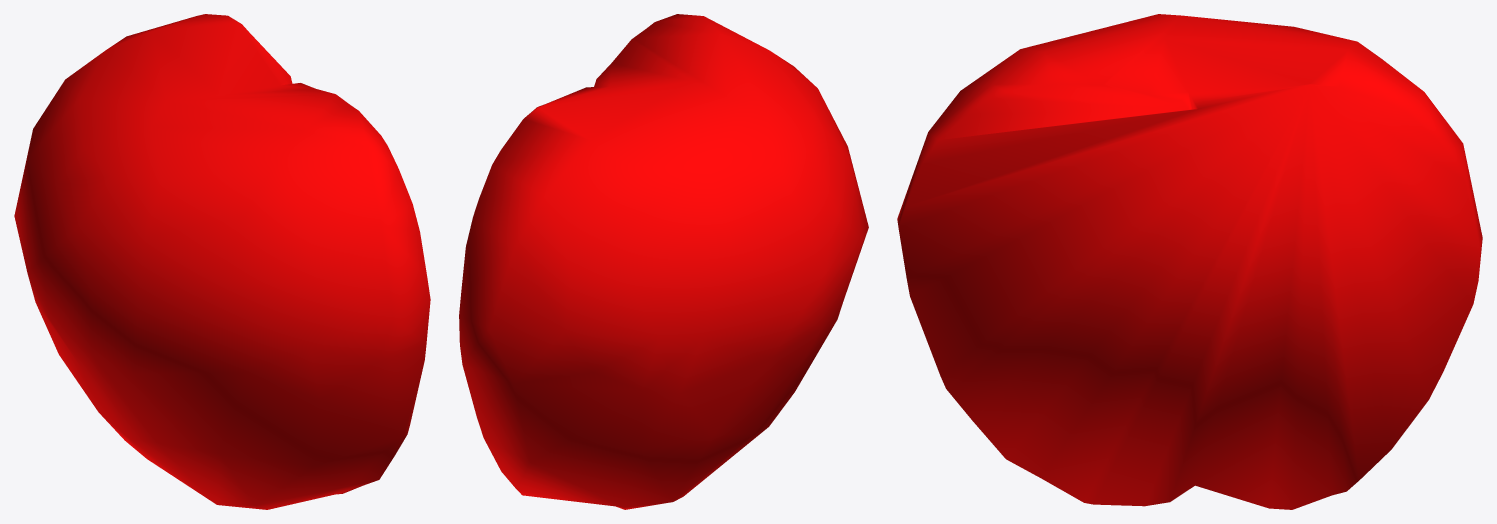
File: apple_left.obj
3 views of the same model, side by side, from view 1: azimuth 30°, elevation 25°; view 2: azimuth 150°, elevation 25°; view 3: azimuth 270°, elevation 25° (orthographic). The views are drawn at different scales.
Parts seen in each view (by area): view 1: Apple; view 2: Apple; view 3: Apple.
Part boxes in pixels (x1,y1,x2,y2): Apple: [14, 14, 430, 509]; Apple: [459, 14, 868, 509]; Apple: [897, 14, 1482, 509].
Size of the model in its own units: 0.0658 by 0.1032 by 0.1261.
